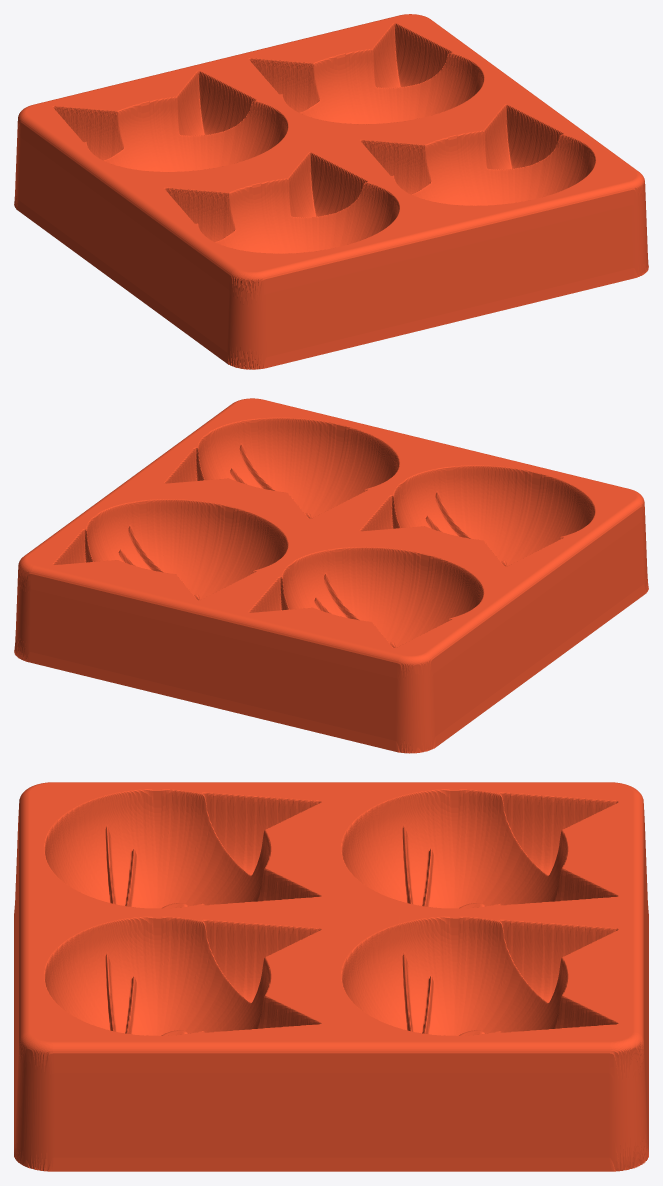
Rendered from mold.glb.
3 renders of one model, top to bottom at view 1: azimuth 30°, elevation 25°; view 2: azimuth 150°, elevation 25°; view 3: azimuth 270°, elevation 25°, orthographic. The views are drawn at different scales.
Parts seen in each view (by area): view 1: geometry_0; view 2: geometry_0; view 3: geometry_0.
Part boxes in pixels (x1,y1,x2,y2): geometry_0: (14,14,648,369); geometry_0: (14,398,648,753); geometry_0: (14,782,648,1171).
Size of the model in its own units: 0.1466 by 0.031 by 0.1447.
